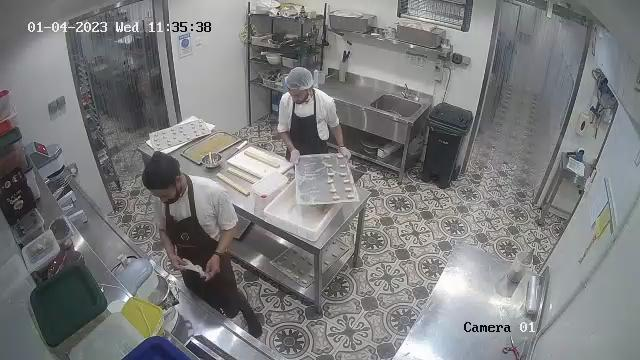apron: (290, 86, 330, 157)
